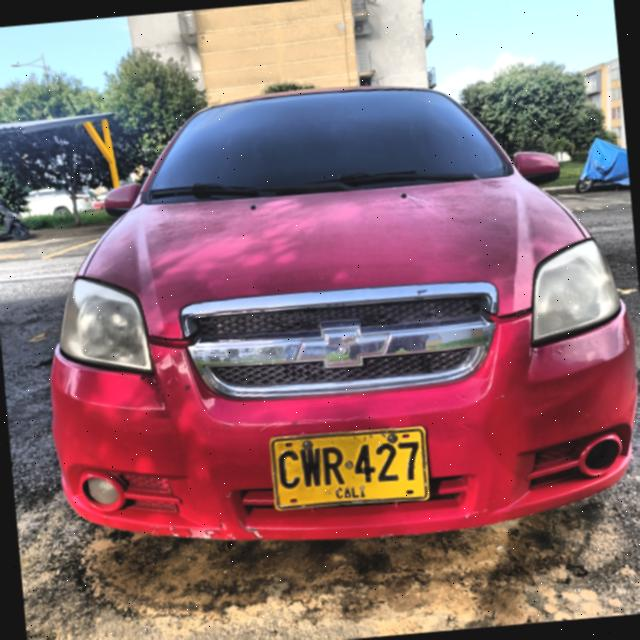2: (373, 441, 403, 484)
4: (352, 441, 375, 483)
7: (396, 439, 421, 481)
C: (276, 449, 303, 490)
R: (321, 443, 347, 488)
W: (298, 446, 324, 488)
